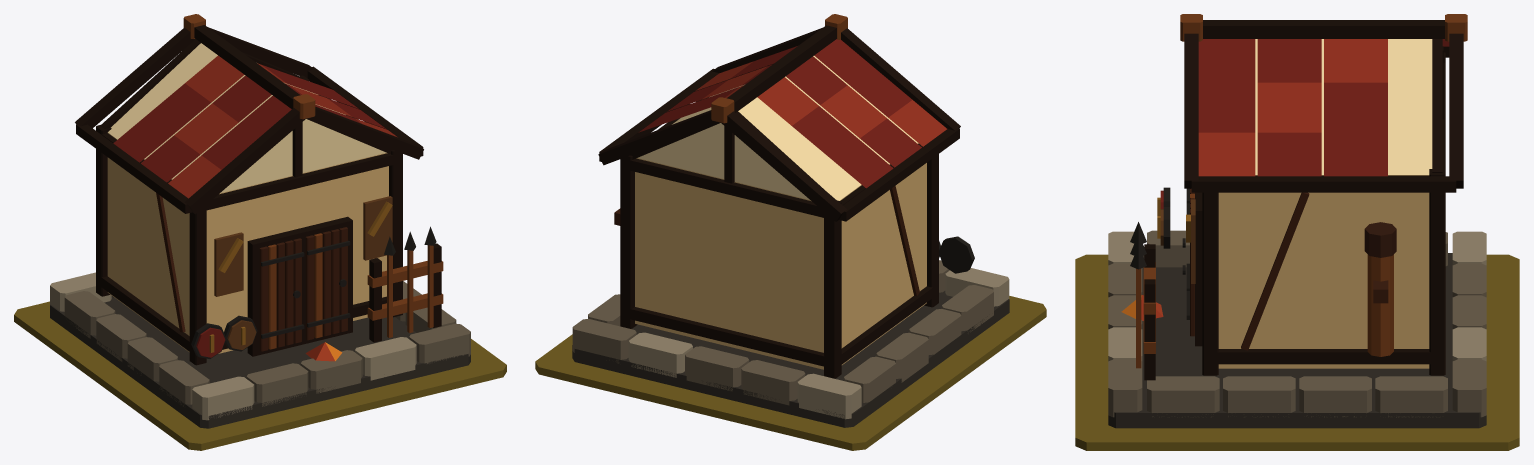
The model's file is barracks_t2.glb.
The picture shows the model from 3 angles, left to right: view 1: azimuth 30°, elevation 25°; view 2: azimuth 150°, elevation 25°; view 3: azimuth 270°, elevation 25°; orthographic projection. The views are drawn at different scales.
Visible parts, largest first — view 1: MMR | barracks | T02 Architecture.001, MMR | barracks | Tier 02 Ground.001, MMR | barracks | T02 Banner Flag 1.001, MMR | barracks | T02 Banner Flag 2.001; view 2: MMR | barracks | T02 Architecture.001, MMR | barracks | Tier 02 Ground.001; view 3: MMR | barracks | T02 Architecture.001, MMR | barracks | Tier 02 Ground.001.
Part boxes in pixels (x1,y1,x2,y2): MMR | barracks | T02 Architecture.001: [50, 14, 470, 428]; MMR | barracks | Tier 02 Ground.001: [14, 301, 506, 450]; MMR | barracks | T02 Banner Flag 1.001: [214, 232, 243, 296]; MMR | barracks | T02 Banner Flag 2.001: [363, 196, 392, 260]; MMR | barracks | T02 Architecture.001: [572, 14, 1009, 427]; MMR | barracks | Tier 02 Ground.001: [535, 296, 1046, 450]; MMR | barracks | T02 Architecture.001: [1108, 14, 1486, 428]; MMR | barracks | Tier 02 Ground.001: [1075, 254, 1519, 450].
Size of the model in its own units: 2.35 by 1.97 by 2.35.
1 material, 1 textured.
